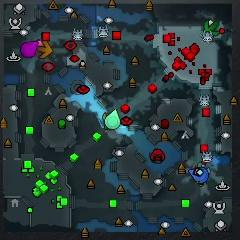p1: (188, 165, 209, 184)
p2: (104, 109, 121, 130)
p3: (20, 41, 38, 57)
x1: (37, 39, 43, 47)
x4: (205, 19, 222, 38)
x5: (34, 40, 55, 60)
